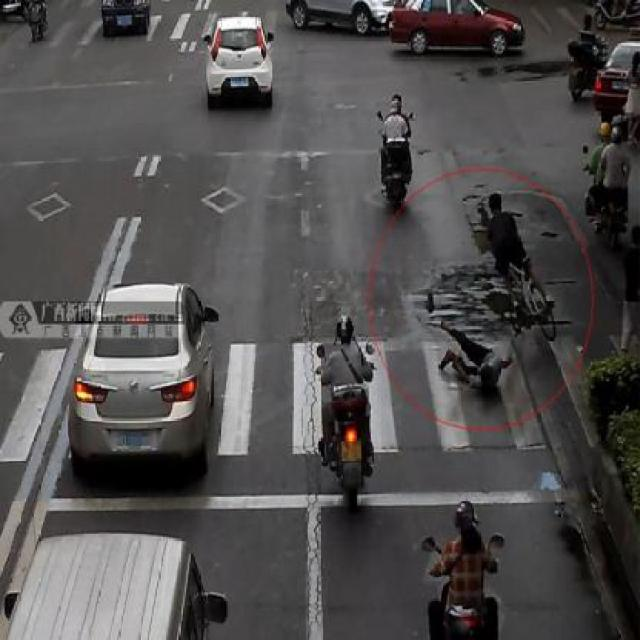fall: (432, 311, 516, 398)
